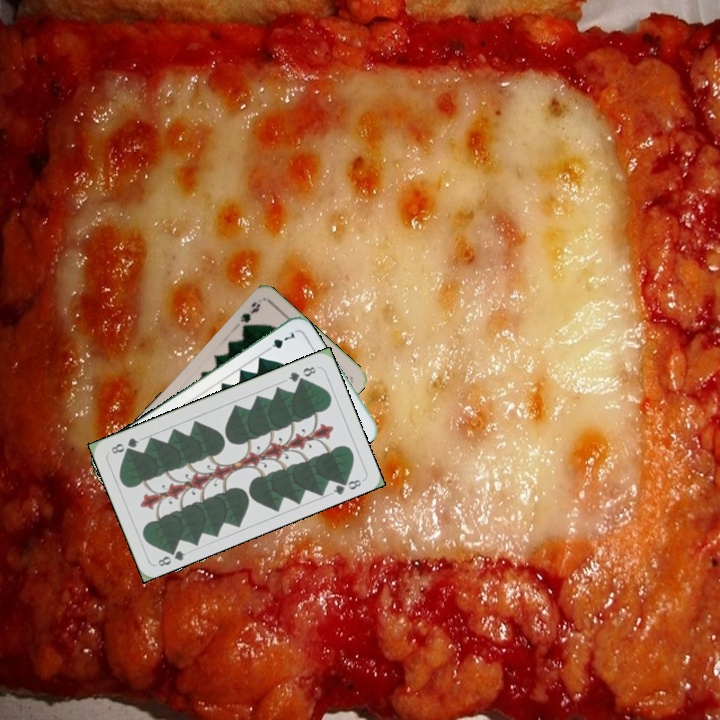G7: (261, 327, 299, 355)
G8: (154, 543, 188, 569), (284, 362, 319, 385)
G9: (236, 298, 263, 334)
